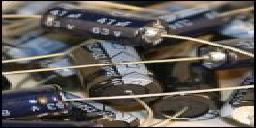Electrolytic-Capacitor: (69, 38, 158, 109), (36, 2, 174, 42)
